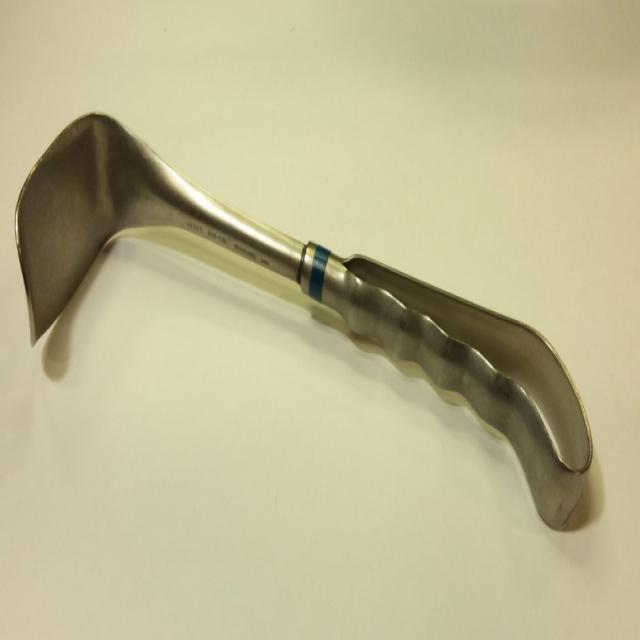Kelly Retractor: (12, 100, 596, 534)
